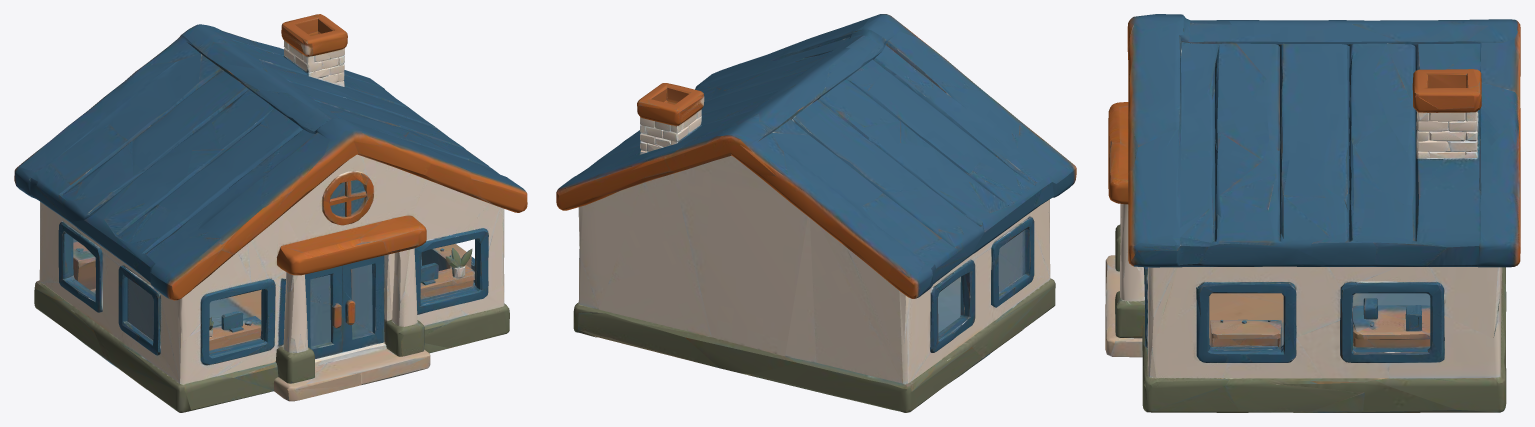
Rendered from realtyOffice.glb.
The picture shows the model from 3 angles, left to right: view 1: azimuth 30°, elevation 25°; view 2: azimuth 150°, elevation 25°; view 3: azimuth 270°, elevation 25°; orthographic projection. The views are drawn at different scales.
Visible parts, largest first — view 1: Mesh_0; view 2: Mesh_0; view 3: Mesh_0.
Part boxes in pixels (x1=…): Mesh_0: x1=14, y1=14, x2=527, y2=412; Mesh_0: x1=556, y1=14, x2=1076, y2=412; Mesh_0: x1=1105, y1=14, x2=1520, y2=412.
Size of the model in its own units: 3.2 by 2.08 by 2.6.
Materials: 1 (1 with a texture image).
